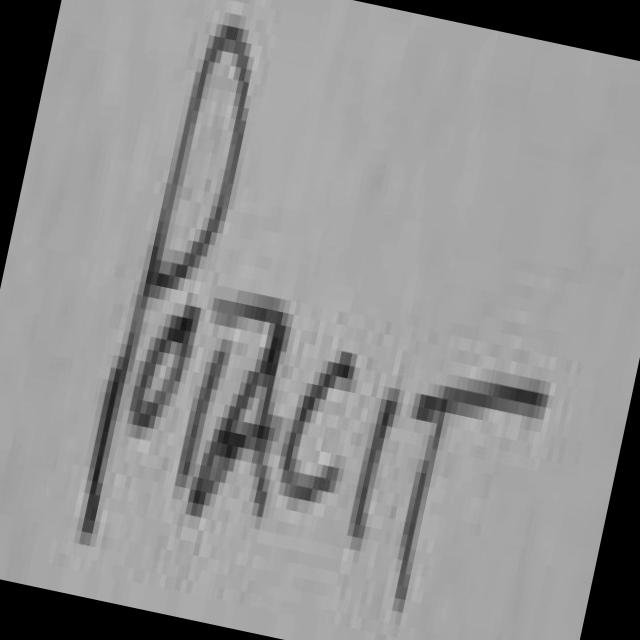A: (191, 325, 287, 529)
C: (284, 363, 352, 497)
I: (353, 402, 401, 550)
O: (133, 306, 197, 422)
P: (82, 28, 250, 545)
T: (398, 383, 545, 607), (171, 304, 277, 496)
